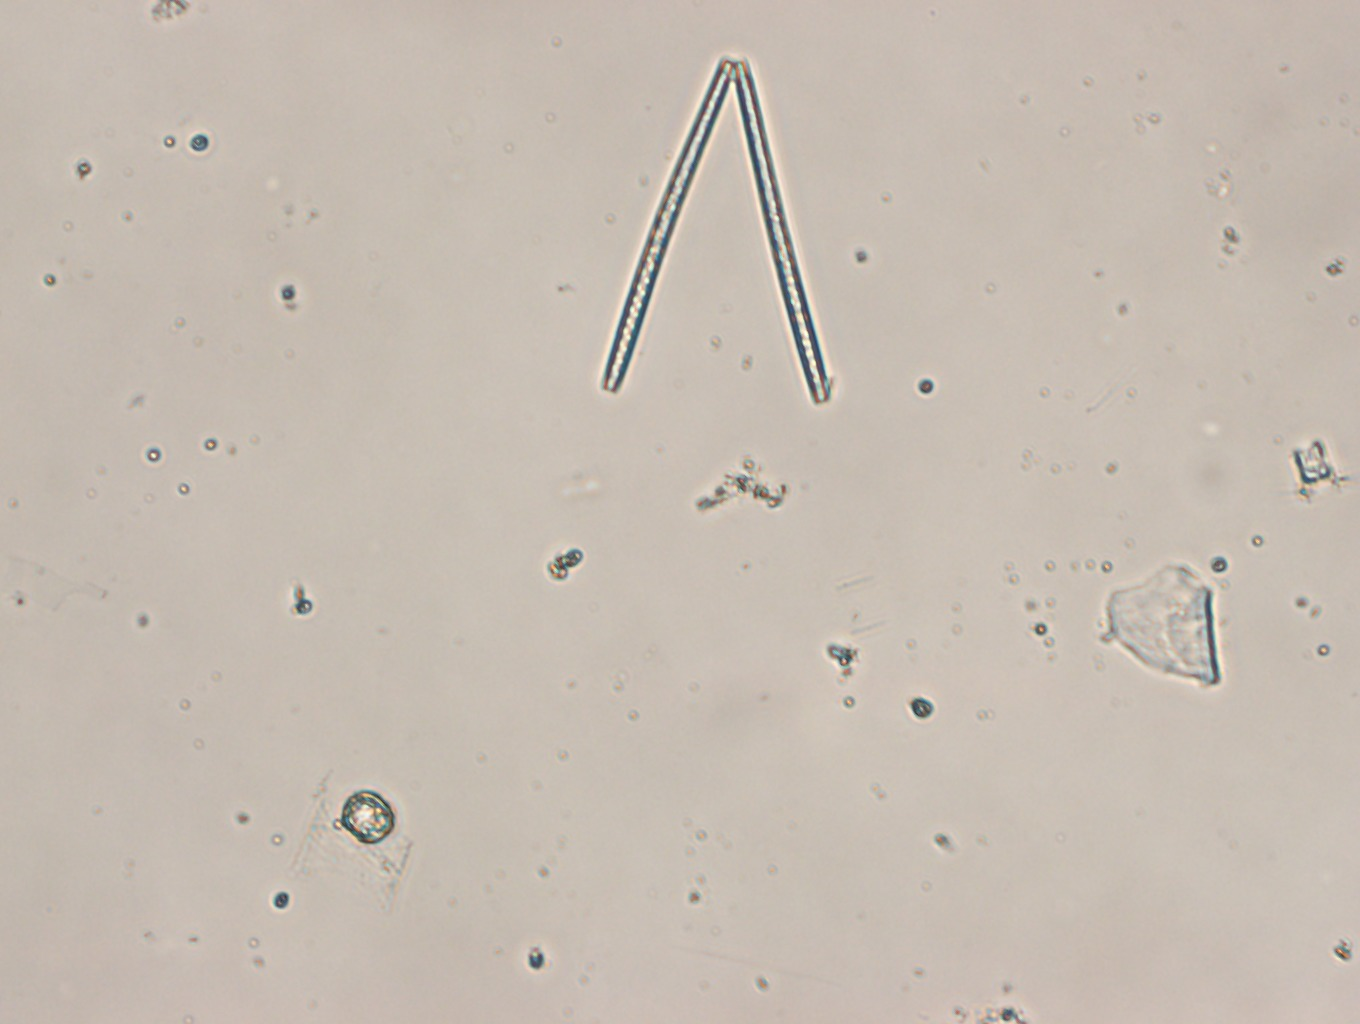thalassionema nitzschioides: (596, 55, 836, 407)
